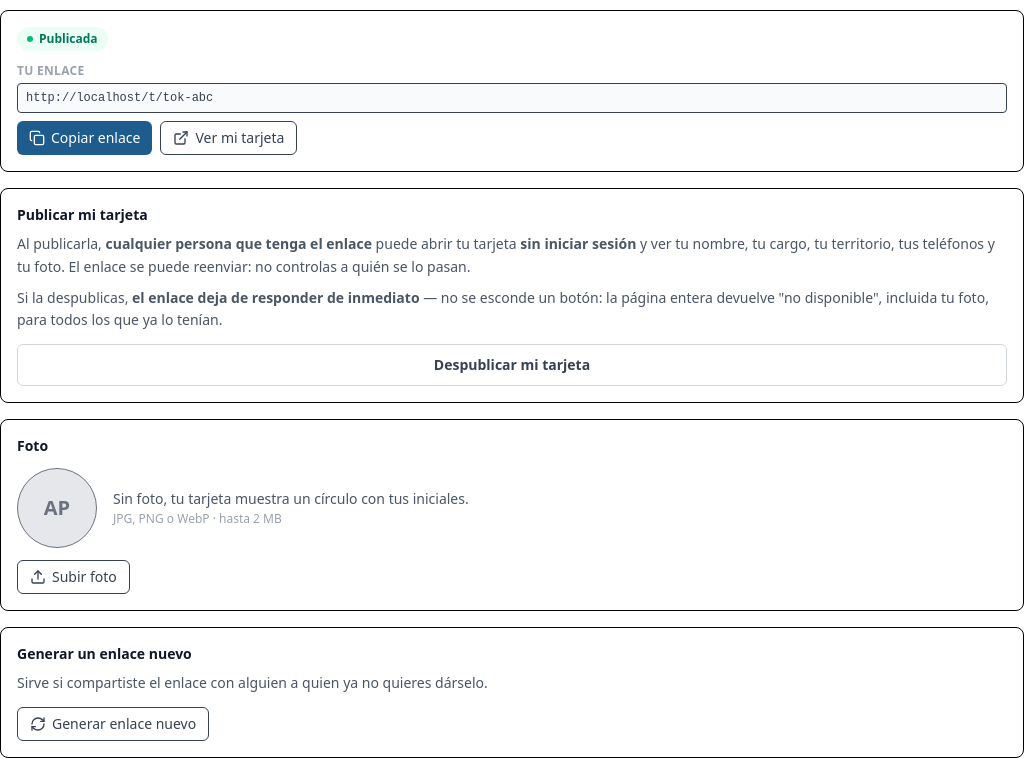
Scenario: rotar el enlace › NO rota al primer clic: primero dice qué rompe
(page scrolled)
Step 1. Click the button "Generar enlace nuevo" → (113, 724), box [17, 707, 209, 741]
(page scrolled)
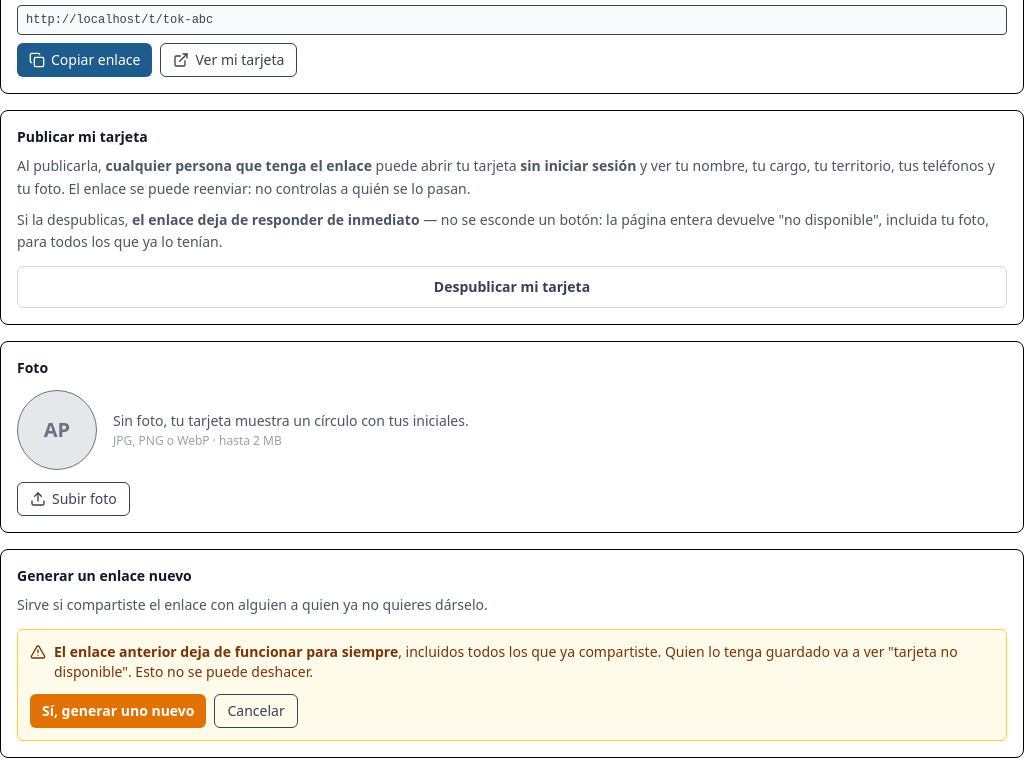
Expected: the text "El enlace anterior deja de funcionar para siempre" is shown, [54, 642, 398, 661]
Expected: the text "no se puede deshacer" is shown, [54, 642, 958, 681]
